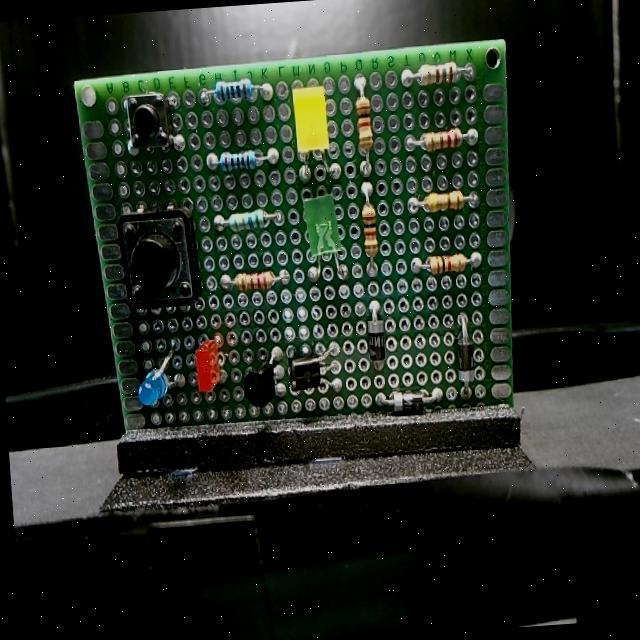diode: (453, 334, 478, 391), (386, 386, 427, 418), (364, 314, 388, 366)
led: (288, 80, 332, 162), (300, 190, 343, 266), (134, 351, 172, 410), (192, 332, 225, 398)
resistor: (414, 122, 465, 156), (412, 57, 464, 90), (417, 185, 467, 219), (352, 90, 376, 160), (358, 200, 382, 264), (223, 204, 275, 233), (421, 248, 469, 278), (212, 147, 260, 176), (210, 76, 256, 106), (230, 268, 276, 294)
switch: (114, 202, 205, 314), (122, 89, 176, 158)
transistor: (286, 345, 328, 399), (240, 357, 280, 410)
